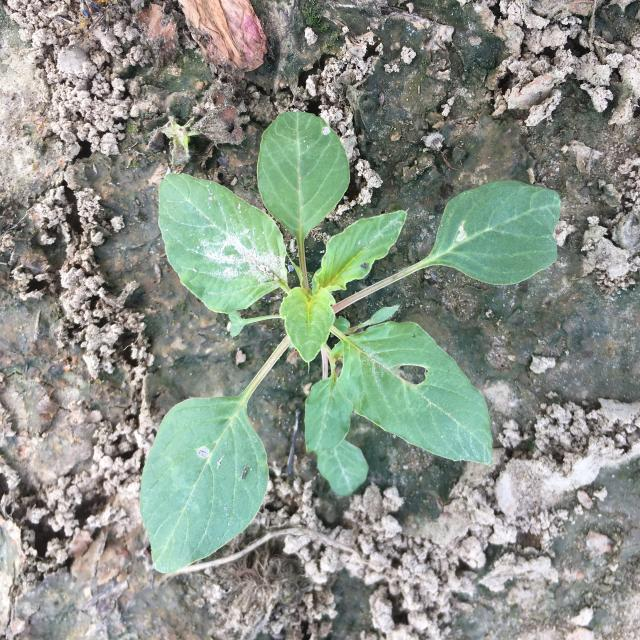PalmerAmaranth: (140, 111, 561, 575)
